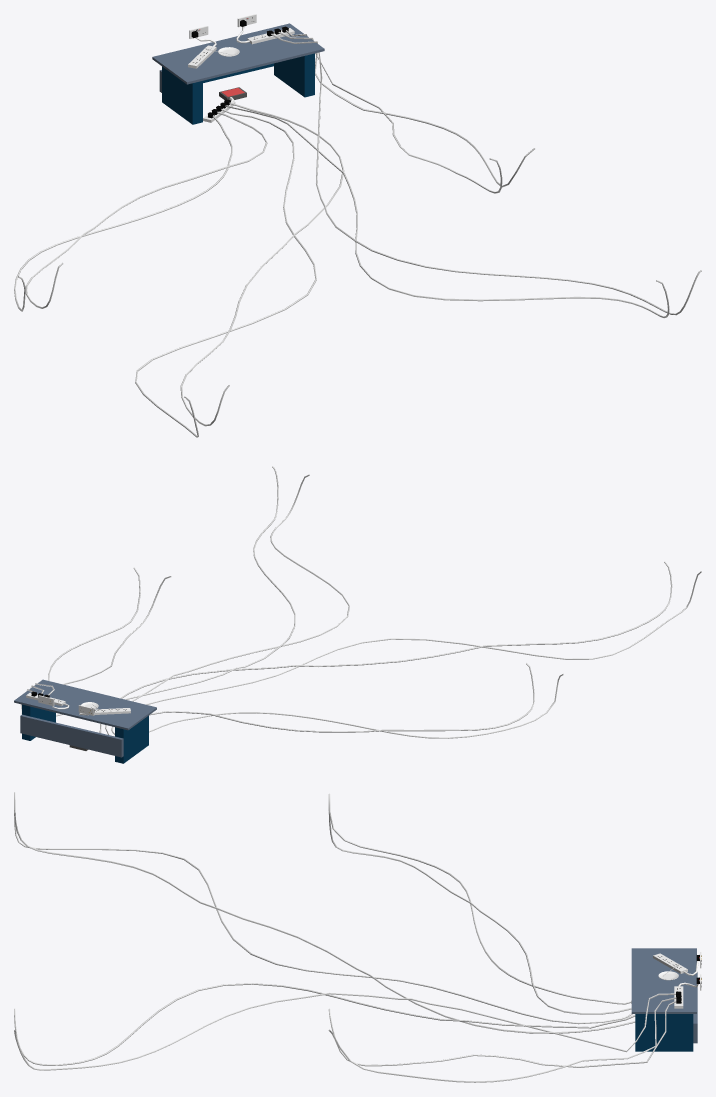
Rendered from Section3-Ovrwrld-Cable-DMG.fbx.
3 views of the same model, one above another, from view 1: azimuth 30°, elevation 25°; view 2: azimuth 150°, elevation 25°; view 3: azimuth 270°, elevation 25° (orthographic). The views are drawn at different scales.
Visible parts, largest first — view 1: Minigame_Cables_DMG; view 2: Minigame_Cables_DMG; view 3: Minigame_Cables_DMG.
Boxes of the visible parts, left/top/right/bottom form: Minigame_Cables_DMG: left=14, top=14, right=701, bottom=437; Minigame_Cables_DMG: left=14, top=466, right=701, bottom=763; Minigame_Cables_DMG: left=14, top=792, right=701, bottom=1082.
Size of the model in its own units: 20.07 by 2.3 by 24.05.
